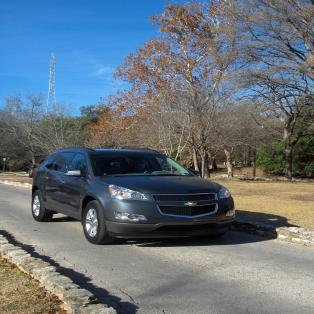Auto: (25, 143, 240, 248)
